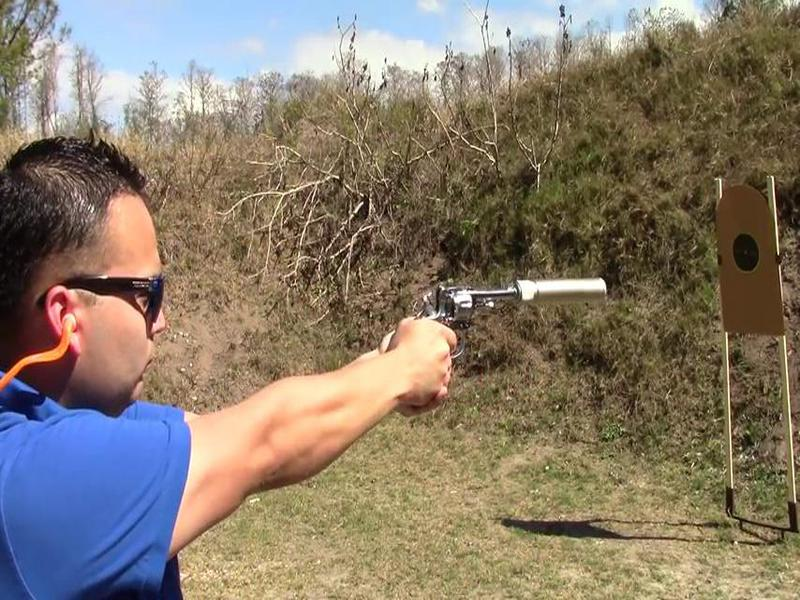Revolver: (407, 270, 522, 357)
